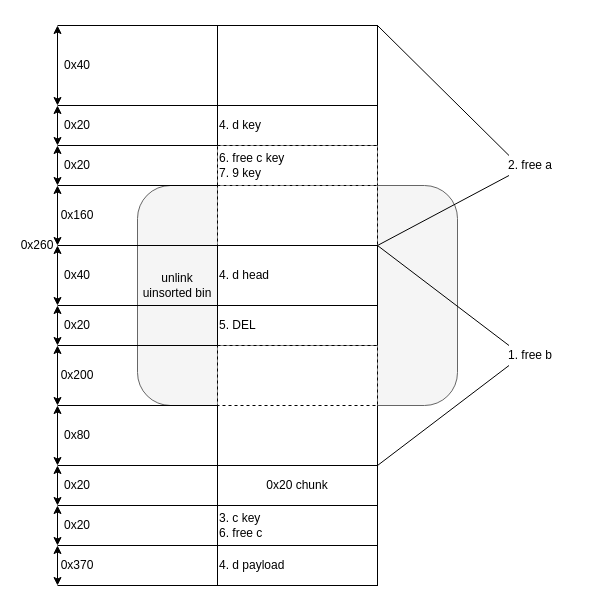
This 590x612 diagram has some shape labels left out. The box of each missing label's shape, as (x1, y1, x2, y2) in pixels:
3. c head 6. free c 7. 9 head: (216, 24, 378, 106)
3. c payload 5. write prev_size 6. free c -> unlink: (216, 344, 378, 406)
7. 9 payload: (216, 184, 378, 246)
